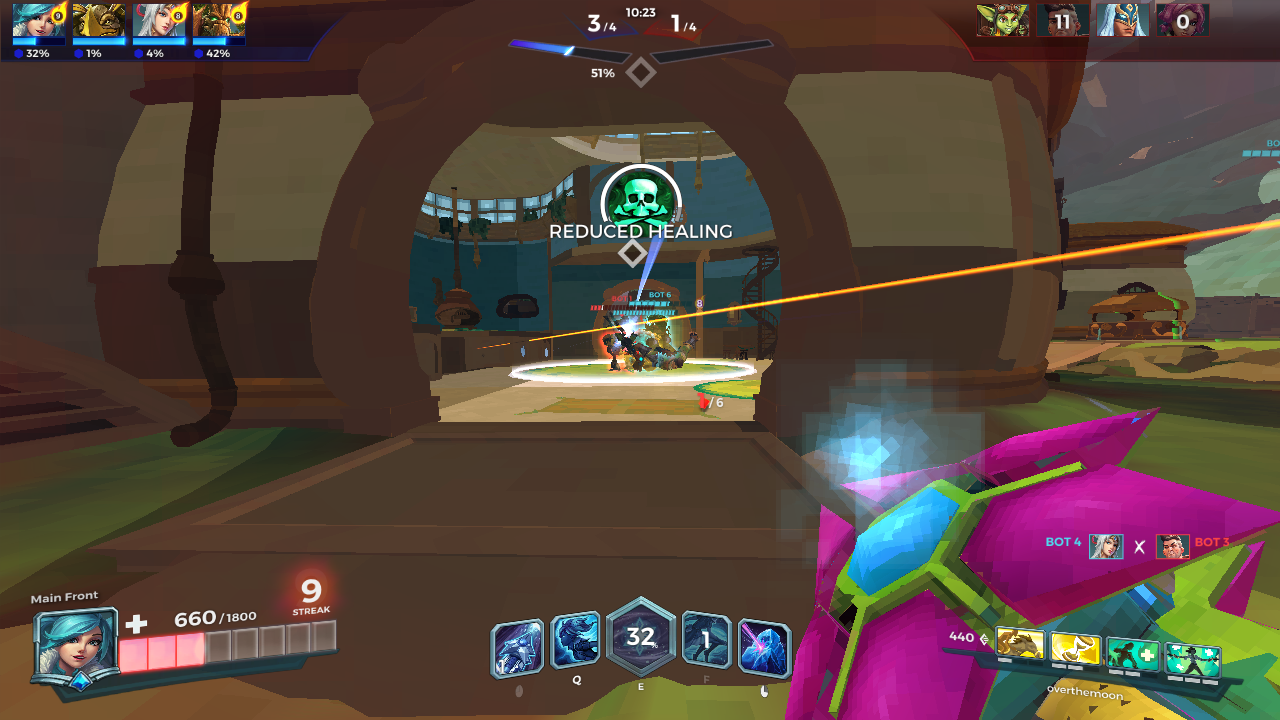model: (607, 329, 637, 372)
